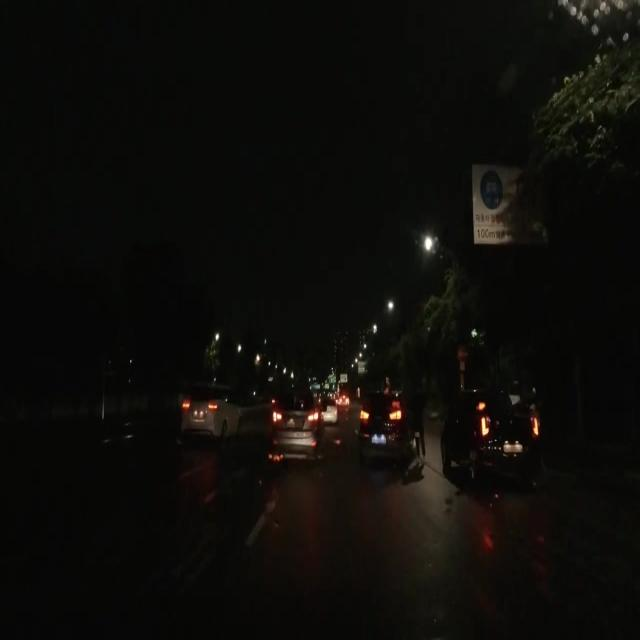Car: (441, 393, 544, 489), (267, 384, 320, 460), (355, 393, 409, 465), (176, 381, 241, 434), (319, 397, 338, 426)
